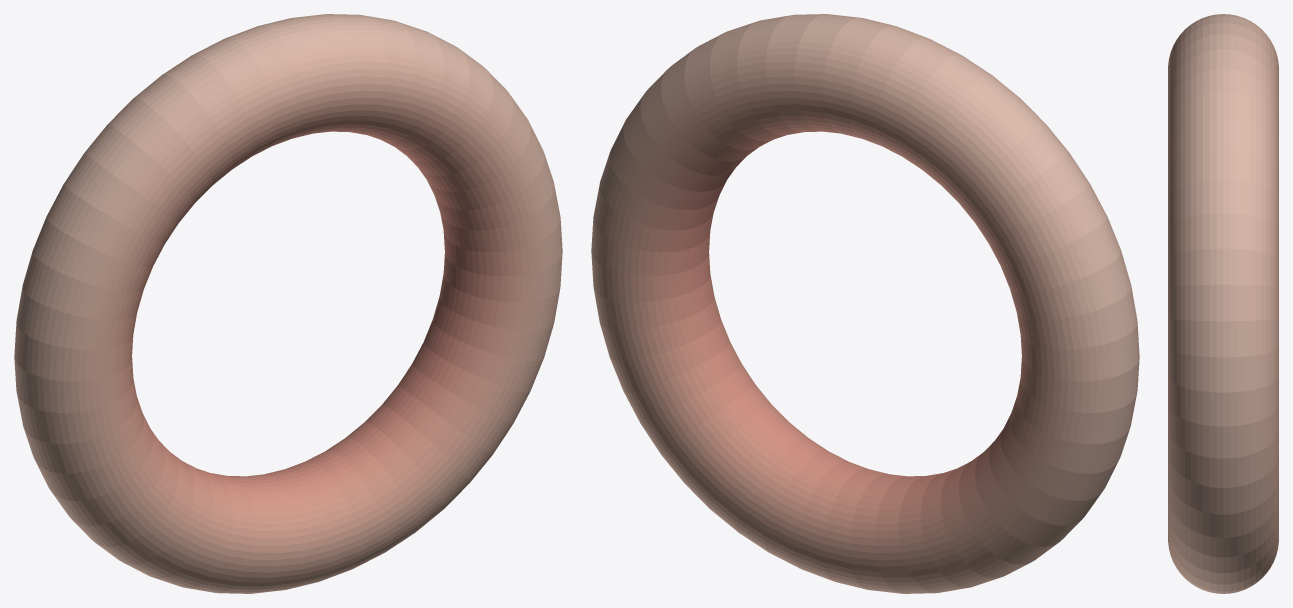
3 renders of one model, left to right at view 1: azimuth 30°, elevation 25°; view 2: azimuth 150°, elevation 25°; view 3: azimuth 270°, elevation 25°, orthographic. The views are drawn at different scales.
Parts seen in each view (by area): view 1: world; view 2: world; view 3: world.
Part boxes in pixels (x1=…): world: x1=14, y1=14, x2=562, y2=593; world: x1=591, y1=14, x2=1139, y2=593; world: x1=1168, y1=14, x2=1278, y2=593.
Bounding box in the file's own units: 31.33 × 31.27 × 5.99.
